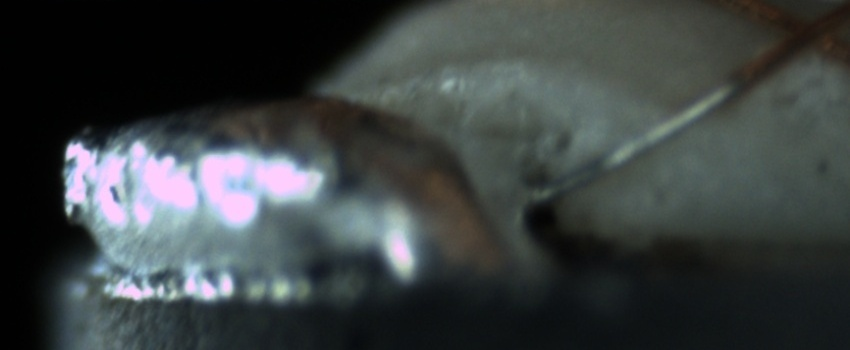CL: (759, 2, 845, 66)
TS: (523, 76, 742, 202)
